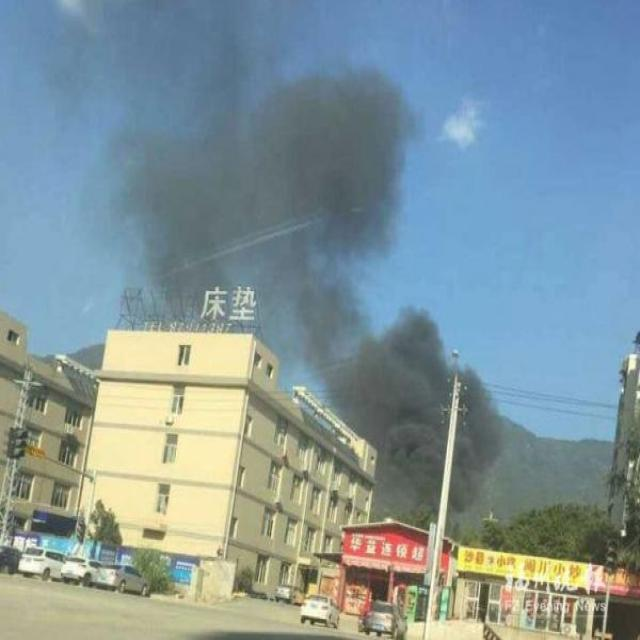Smoke: (100, 61, 502, 522)
